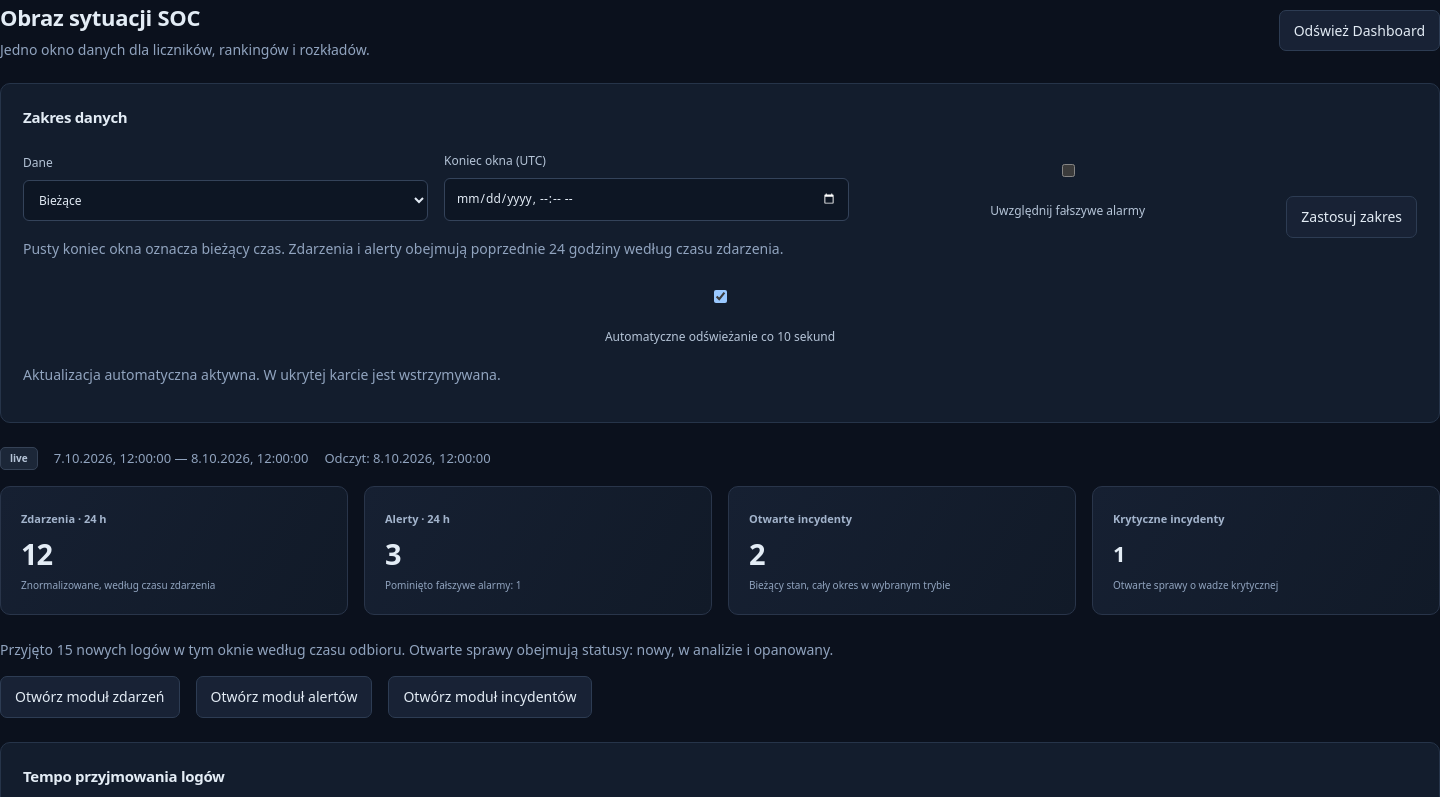
keeps the last good report with a stale warning on temporary failure
Expected: the text "Zdarzenia · 24 h" is shown, [21, 511, 107, 526]
Click the button "Odśwież Dashboard".
click(1359, 30)  # box [1279, 10, 1439, 51]
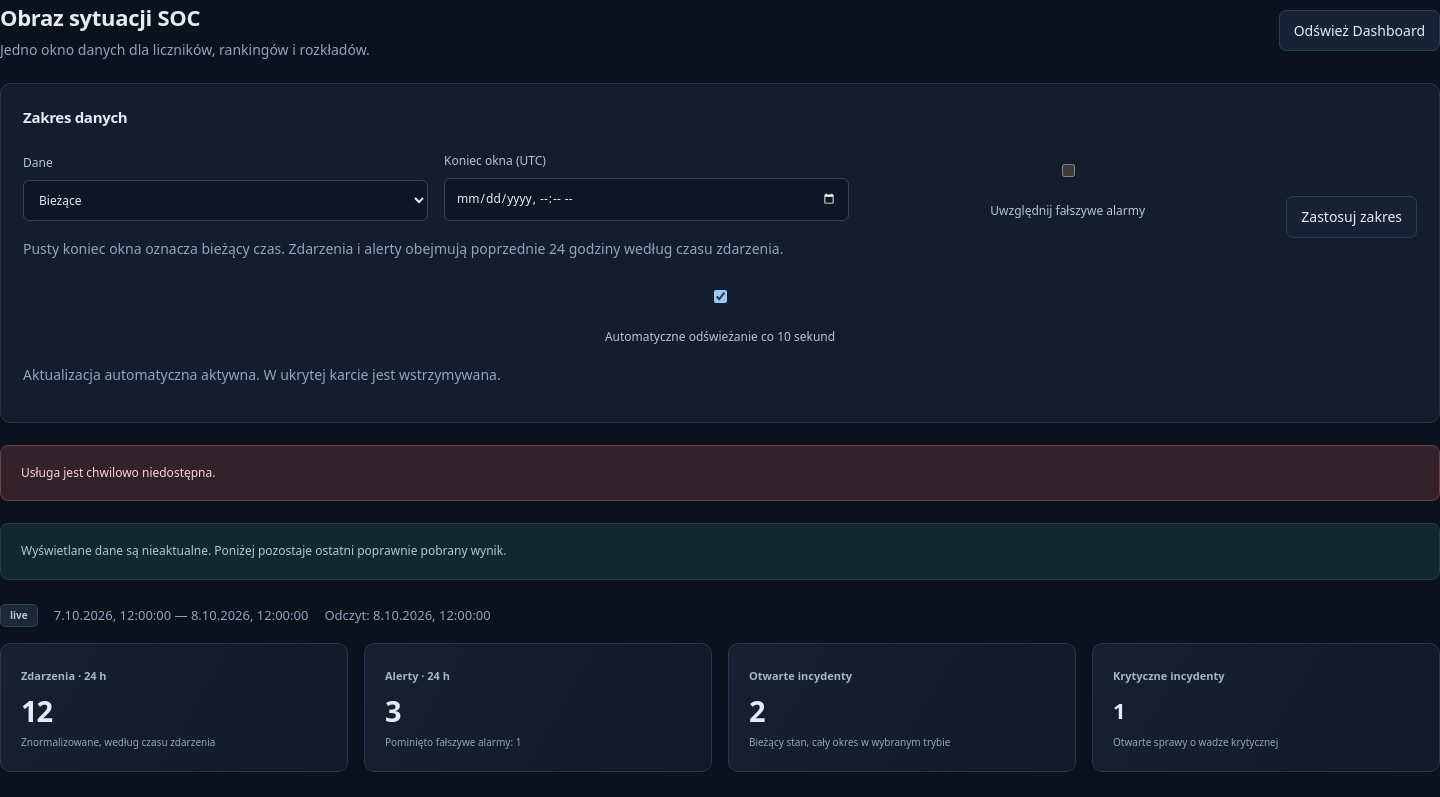
Expected: the text "Zdarzenia · 24 h" is shown, [21, 668, 107, 683]
Result: the text "Wyświetlane dane są nieaktualne" is shown at [21, 542, 506, 559]
